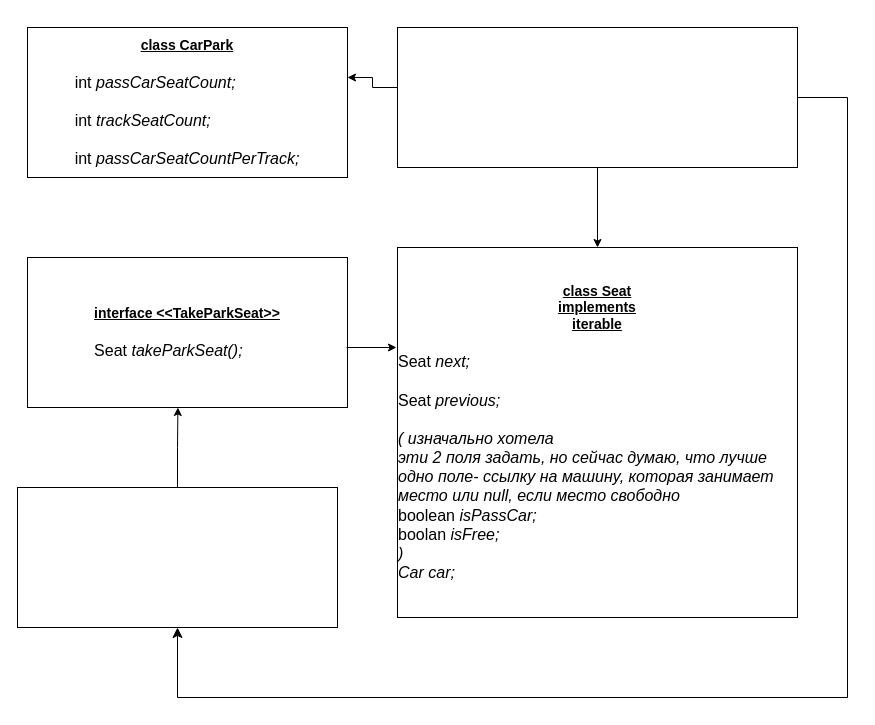
This 875x725 diagram has some shape labels left out. The centre of each missing label's shape, as x and y in pixels:
"class Car implements TakeParkSeat int size; @override Seat takeParkSeat();" goes at point 177,557.
"class ParkService List<Car> cars ; List<Seat> seats;" goes at point 597,97.
